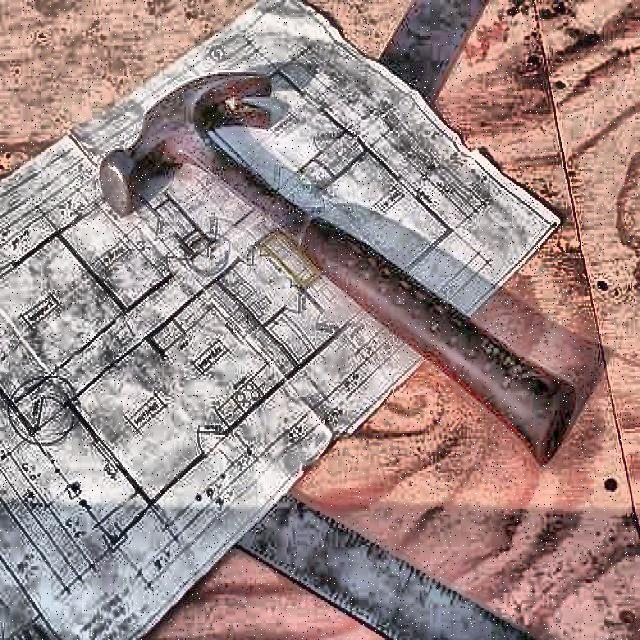hammer: (96, 66, 584, 470)
